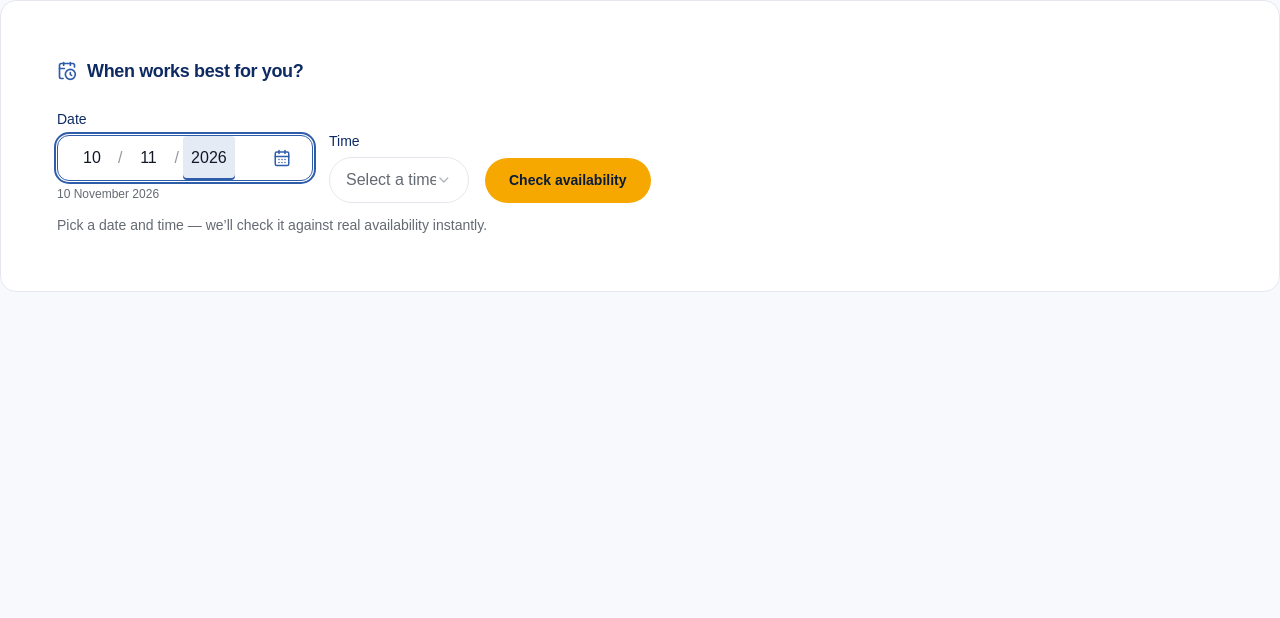
it: Booking — 422/429 codes show localized copy, not the backend English › timezone_required
Click the dropdown at (399, 180), box [329,157,469,203]
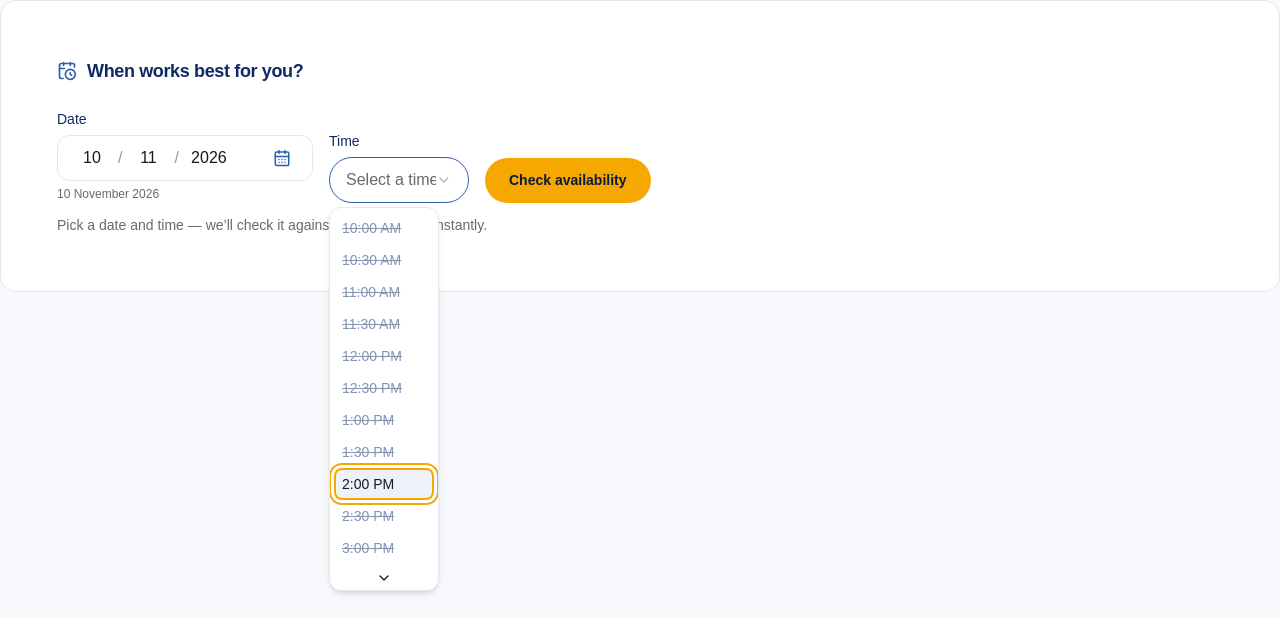
Click the option "2:00 PM" at (384, 484), box [334,468,434,500]
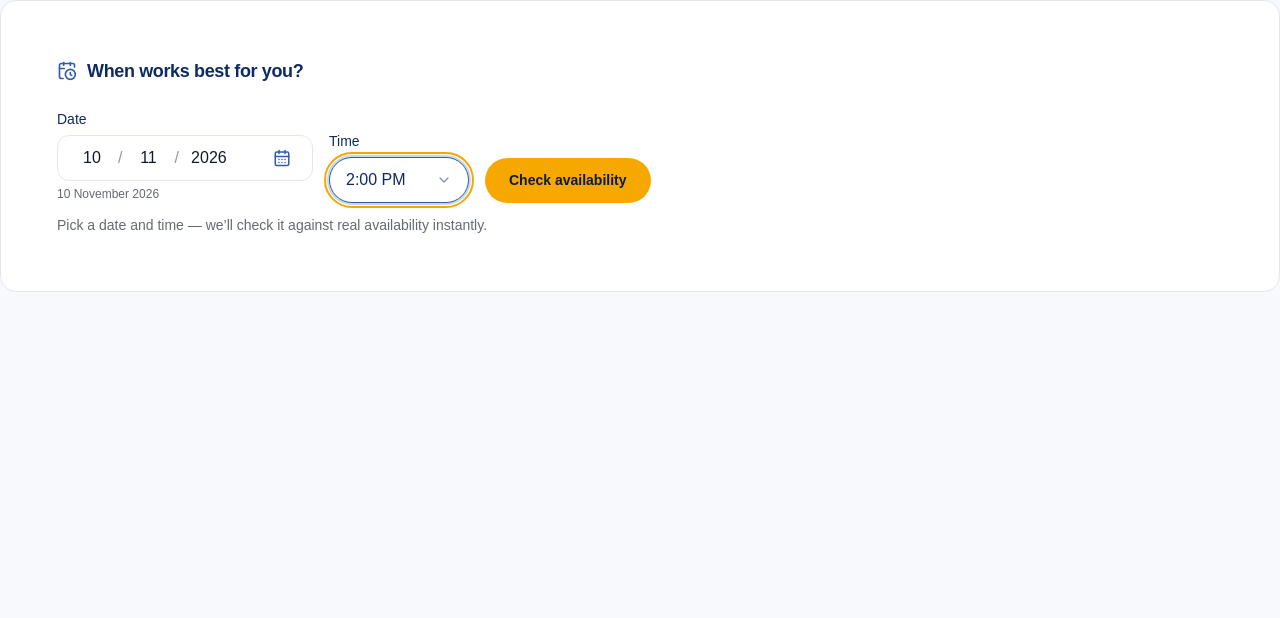
Click the button "Check availability" at (568, 180), box [485,158,650,203]
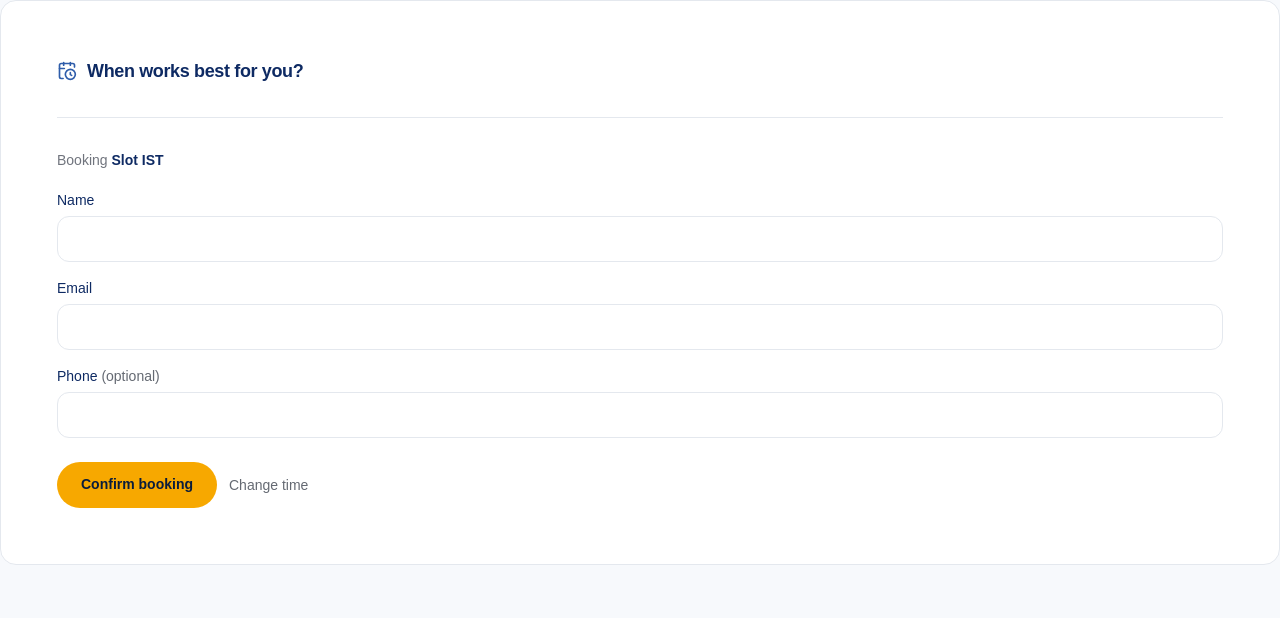
Type "Asha Roy" into the field labelled "Name" at (640, 239), box [57,216,1223,262]
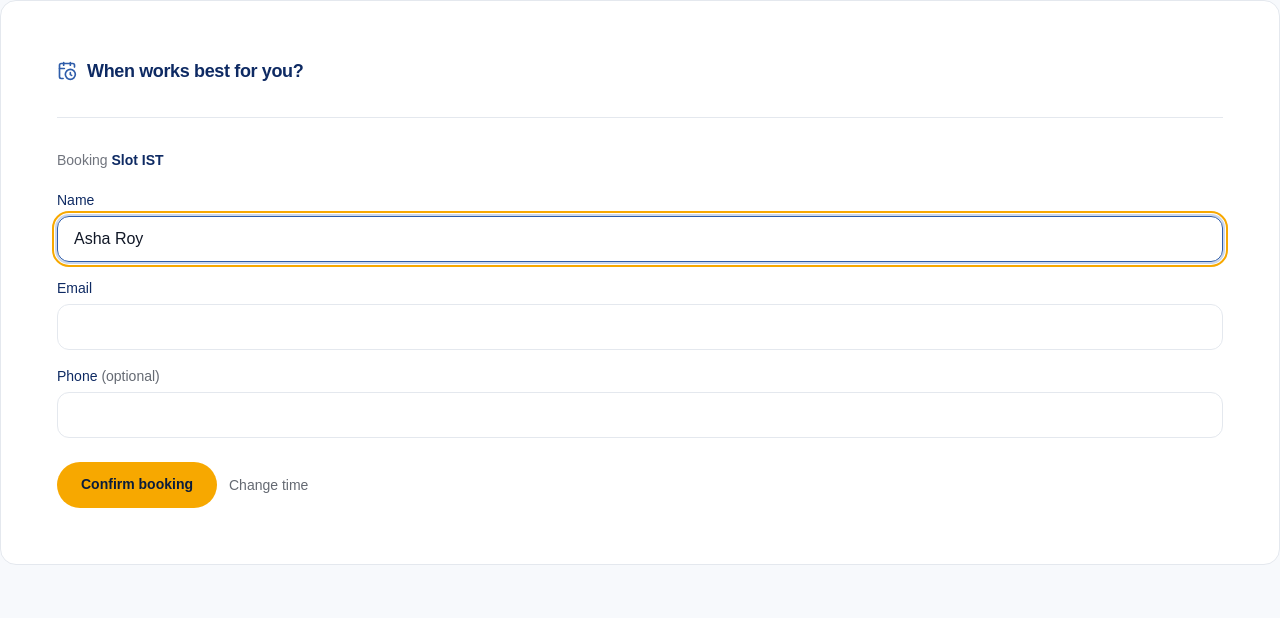
Type "asha@example.com" into the field labelled "Email" at (640, 327), box [57,304,1223,350]
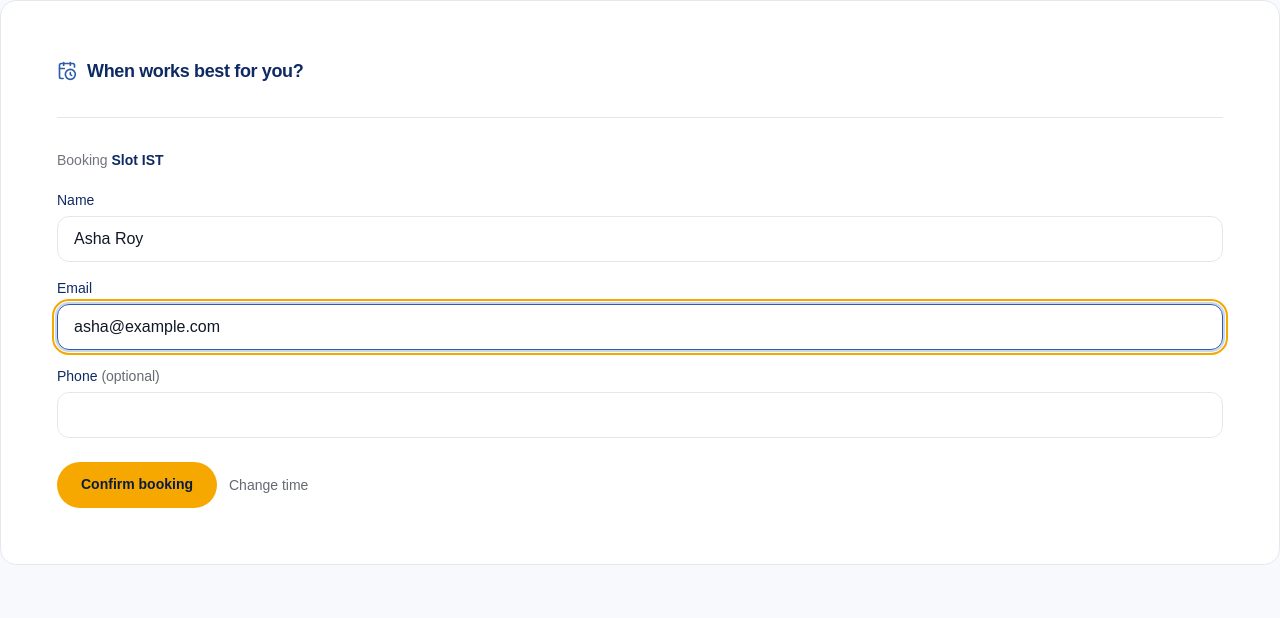
Click the button "Confirm booking" at (137, 485), box [57,462,217,508]
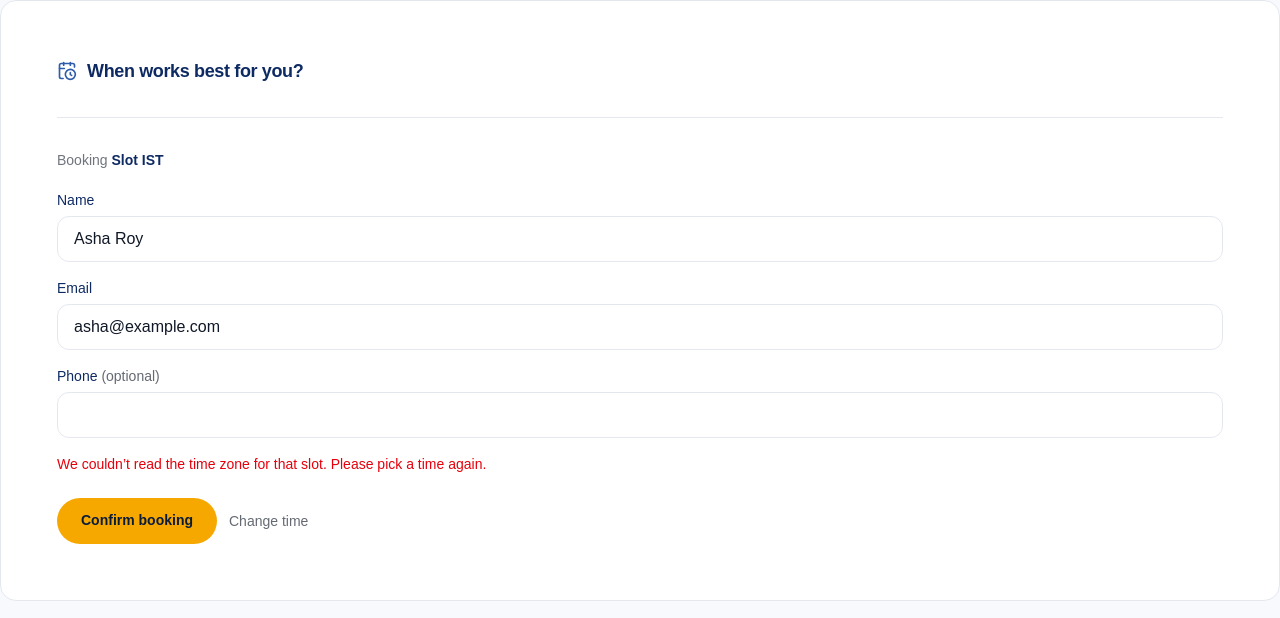
Now the text "We couldn’t read the time zone for that slot. Please pick a time again." is shown, box [57,456,486,472]
